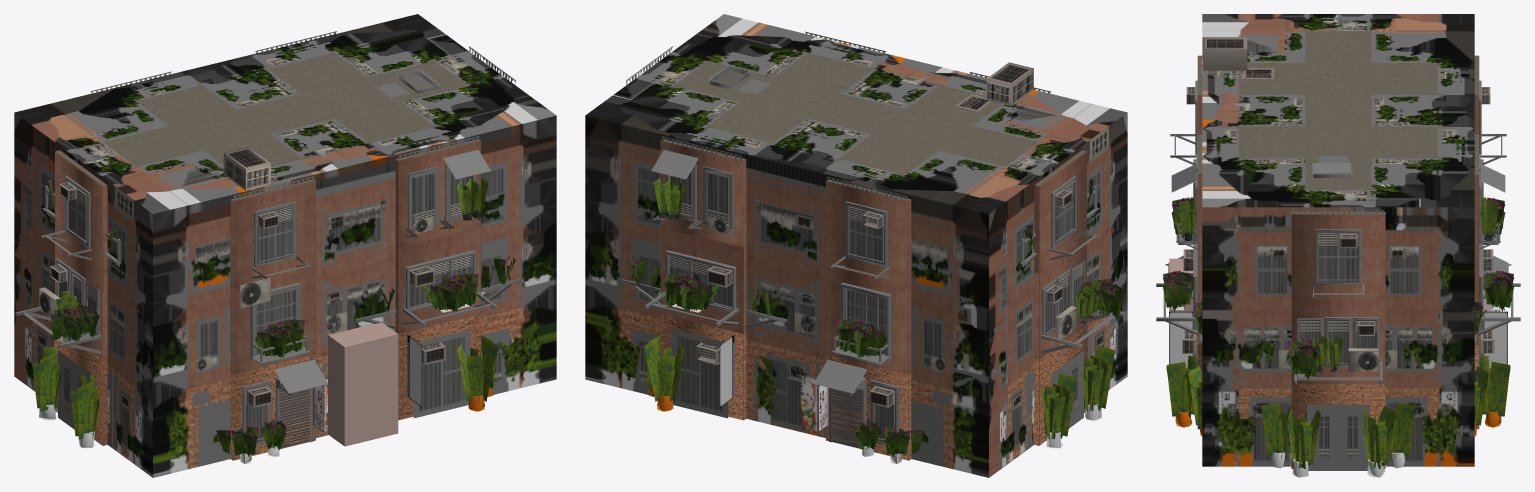
Rendered from nc_building_04.fbx.
3 renders of one model, left to right at view 1: azimuth 30°, elevation 25°; view 2: azimuth 150°, elevation 25°; view 3: azimuth 270°, elevation 25°, orthographic.
Parts seen in each view (by area): view 1: nc_building_04_LOD0; view 2: nc_building_04_LOD0; view 3: nc_building_04_LOD0.
Boxes of the visible parts, x1,y1,x2,y2 form: nc_building_04_LOD0: [14, 14, 556, 477]; nc_building_04_LOD0: [585, 14, 1127, 477]; nc_building_04_LOD0: [1156, 14, 1520, 477].
Size of what is drawn, in the model's own units: 12.18 by 6.61 by 7.78.
